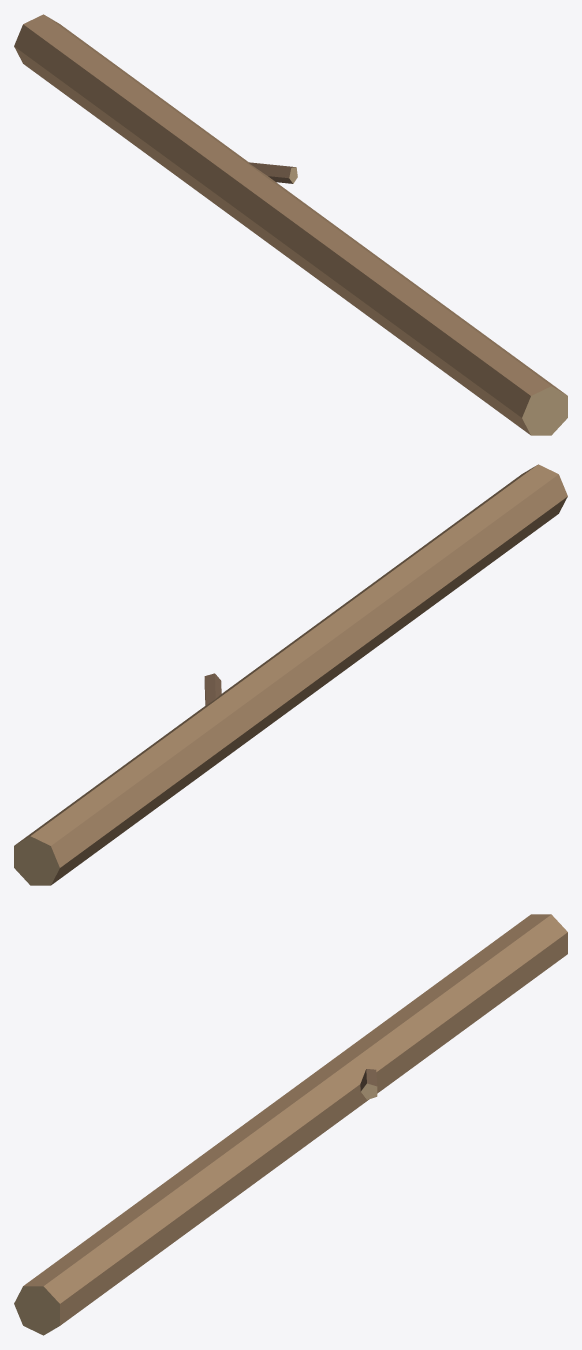
Rendered from fence_rail_wood_2m.glb.
3 renders of one model, top to bottom at view 1: azimuth 30°, elevation 25°; view 2: azimuth 150°, elevation 25°; view 3: azimuth 330°, elevation 25°, orthographic.
Visible parts, largest first — view 1: fence_rail_wood_2m; view 2: fence_rail_wood_2m; view 3: fence_rail_wood_2m.
Boxes of the visible parts, x1,y1,x2,y2 form: fence_rail_wood_2m: (14, 14, 567, 435); fence_rail_wood_2m: (14, 464, 567, 885); fence_rail_wood_2m: (14, 914, 567, 1335).
Bounding box in the file's own units: 0.1582 × 0.1072 × 2.
